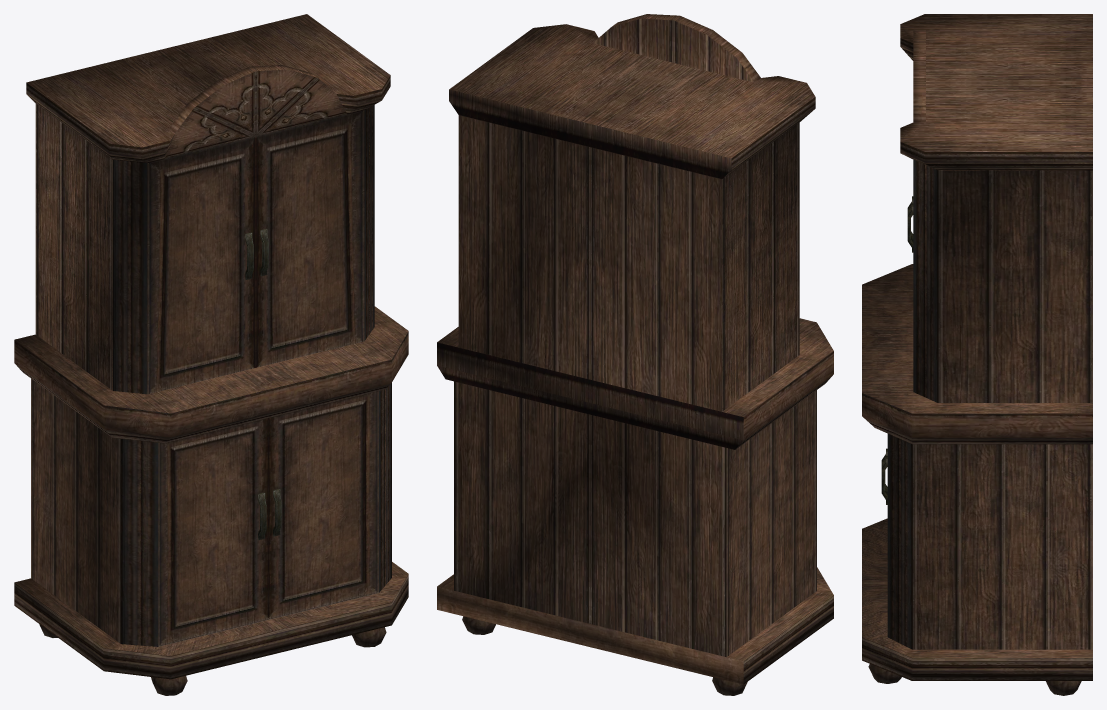
The model's file is GS_CITY_CUPBOARD_ORANGE_01_KOZA.glb.
3 renders of one model, left to right at view 1: azimuth 30°, elevation 25°; view 2: azimuth 150°, elevation 25°; view 3: azimuth 270°, elevation 25°, orthographic.
Parts seen in each view (by area): view 1: Mesh; view 2: Mesh; view 3: Mesh.
Part boxes in pixels (<box>): Mesh: <box>14,14,408,695</box>; Mesh: <box>437,14,833,695</box>; Mesh: <box>862,14,1092,695</box>.
Bounding box in the file's own units: 1.38 × 2.53 × 0.9.
Materials: 4 (4 with a texture image).
